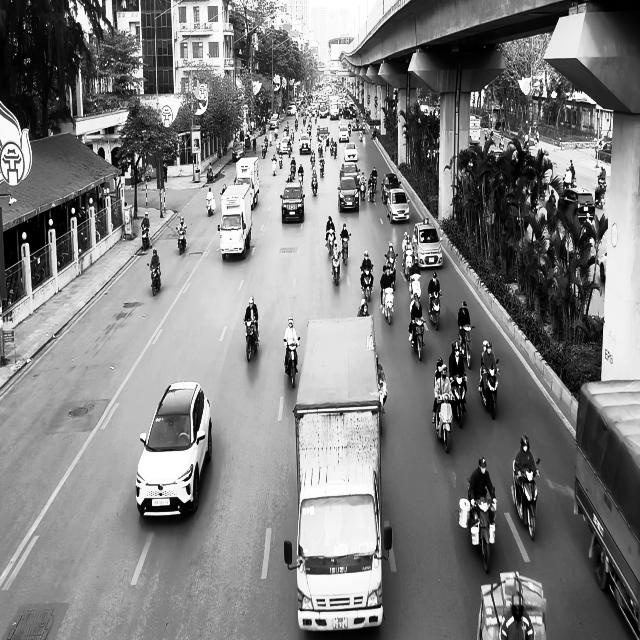car: (135, 380, 212, 518), (412, 221, 443, 268), (280, 184, 305, 223), (386, 188, 410, 223), (338, 176, 360, 212), (381, 172, 399, 203), (344, 142, 358, 162), (232, 142, 245, 162)
motorbike: (457, 478, 497, 574), (511, 457, 540, 540), (478, 358, 499, 419), (433, 394, 453, 453), (450, 373, 468, 428), (283, 337, 301, 388), (243, 316, 260, 362), (409, 317, 426, 361), (460, 324, 474, 368), (428, 290, 442, 330), (359, 265, 374, 302), (381, 286, 394, 324), (147, 262, 161, 296), (340, 233, 351, 265), (330, 250, 340, 285), (409, 273, 421, 301), (403, 250, 413, 279), (176, 227, 186, 255), (141, 225, 151, 251), (326, 228, 336, 254), (206, 196, 215, 216), (311, 174, 317, 196)
truck: (284, 314, 392, 632), (573, 378, 640, 638)
